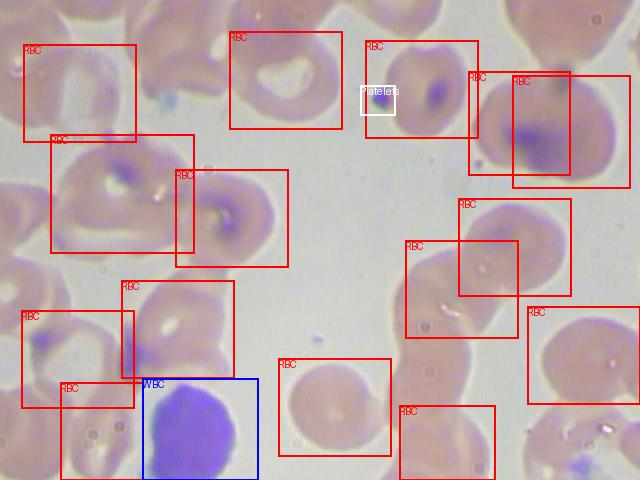Platelets: (360, 85, 395, 115)
RBC: (50, 134, 194, 253), (512, 75, 630, 188), (458, 198, 571, 296), (405, 240, 518, 338), (365, 40, 478, 138), (175, 169, 288, 267), (278, 358, 391, 456), (527, 306, 640, 404), (229, 31, 342, 129), (23, 44, 136, 142), (21, 310, 134, 408), (121, 280, 234, 378), (468, 71, 570, 175), (60, 382, 143, 480), (399, 405, 495, 480)
WBC: (142, 378, 258, 480)
